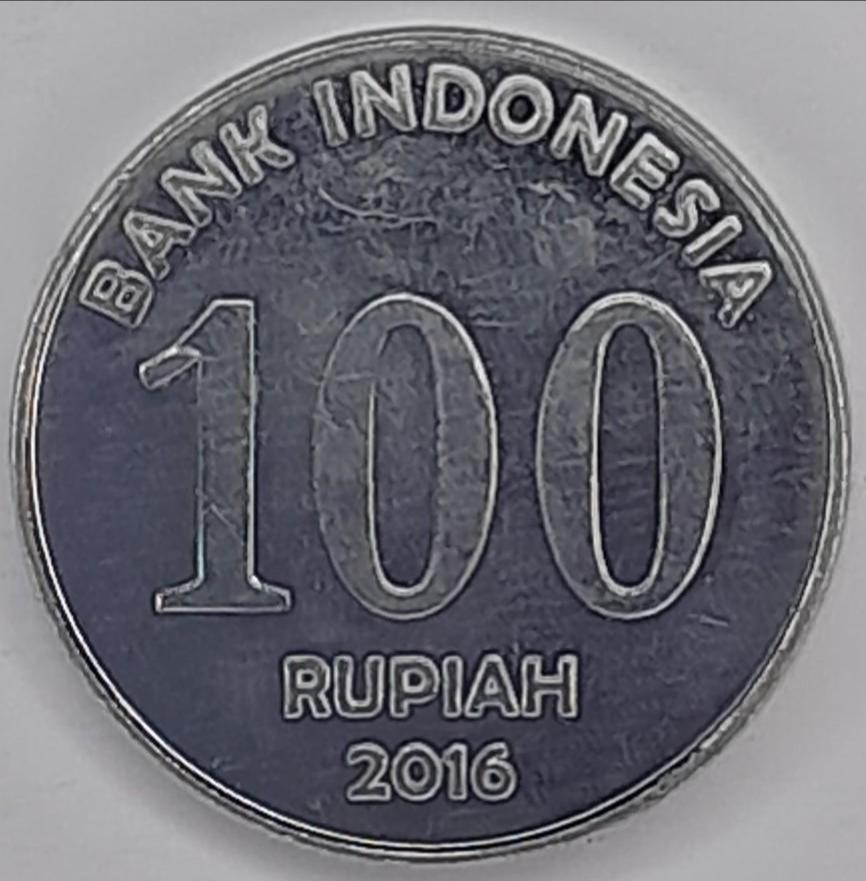coin_100_e2016: (4, 21, 857, 865)
